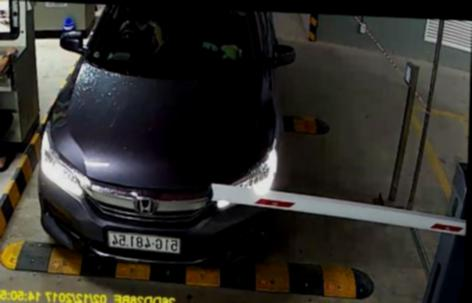License_Plate: (105, 228, 182, 255)
